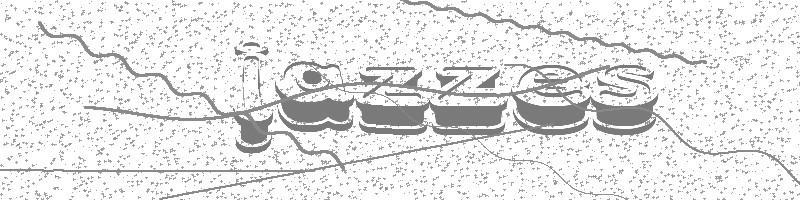a: (276, 62, 355, 132)
e: (512, 65, 591, 135)
i: (233, 42, 274, 154)
s: (591, 65, 659, 136)
z: (427, 67, 508, 136), (358, 67, 429, 135)
